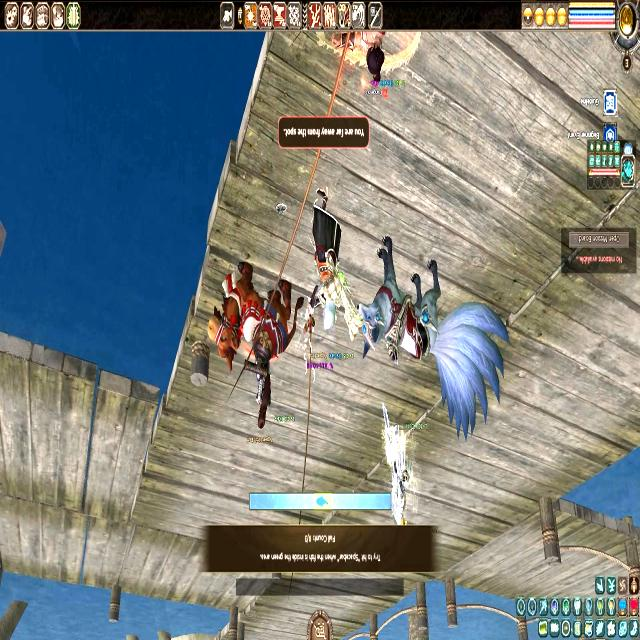fishes: (315, 494, 329, 508)
